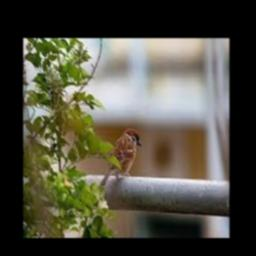Sparrow: (100, 128, 141, 186)
